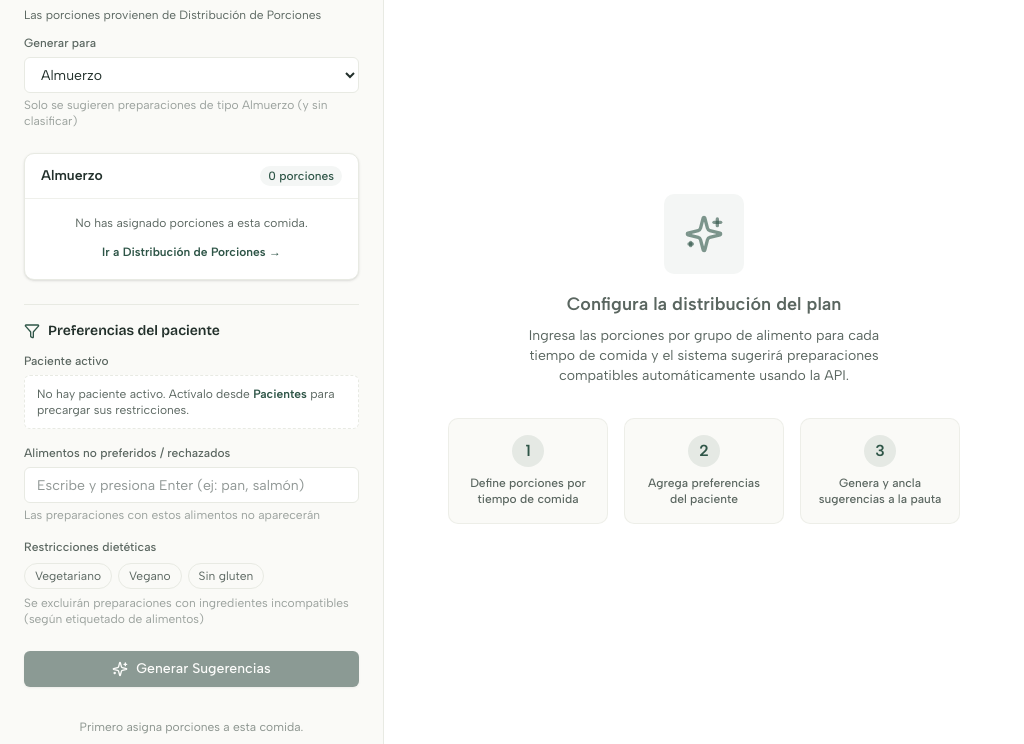
Test: GeneradorPreparaciones › restricciones dietéticas › muestra el aviso de cobertura de etiquetado al activar una restricción
(page scrolled)
Click the button "Vegetariano" at {"x": 68, "y": 576}, box 24,563 -> 112,589
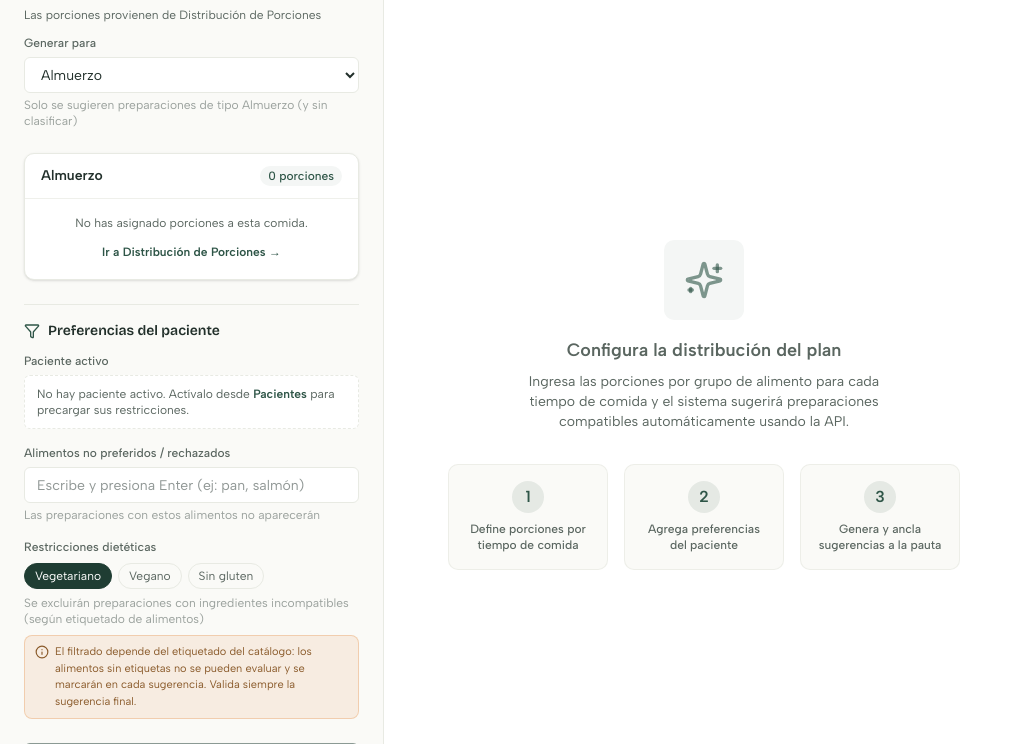
Expected: the text "etiquetado del catálogo" is shown, 55,645 -> 312,708
